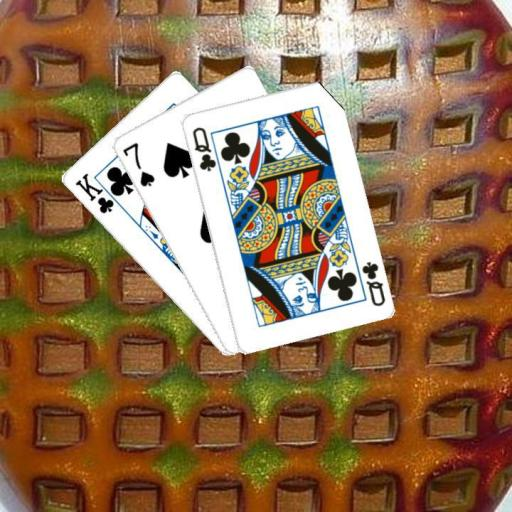7S: (119, 140, 156, 189)
KC: (71, 170, 125, 216)
QC: (188, 124, 217, 173), (359, 258, 386, 308)
